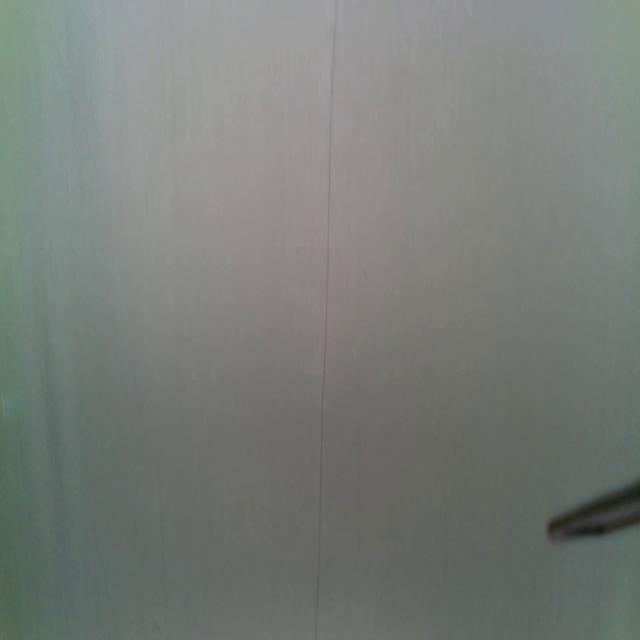crease: (314, 0, 340, 640)
